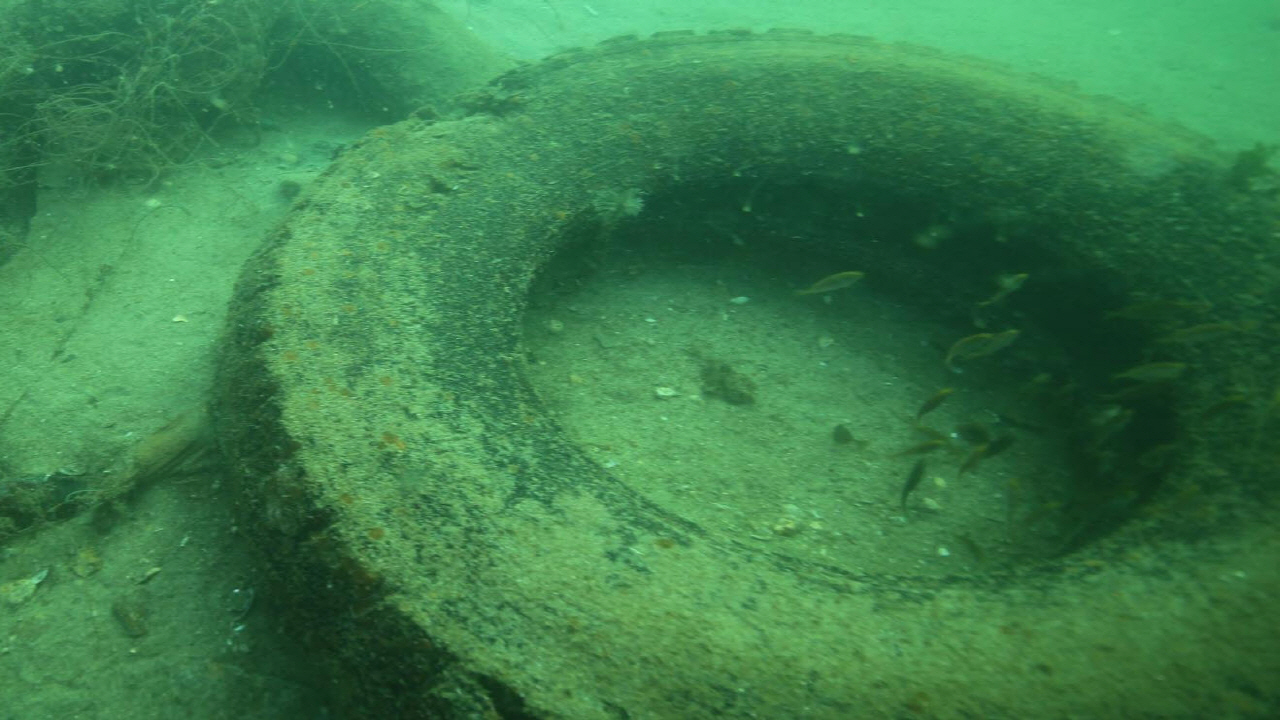tire: (223, 26, 1280, 720)
